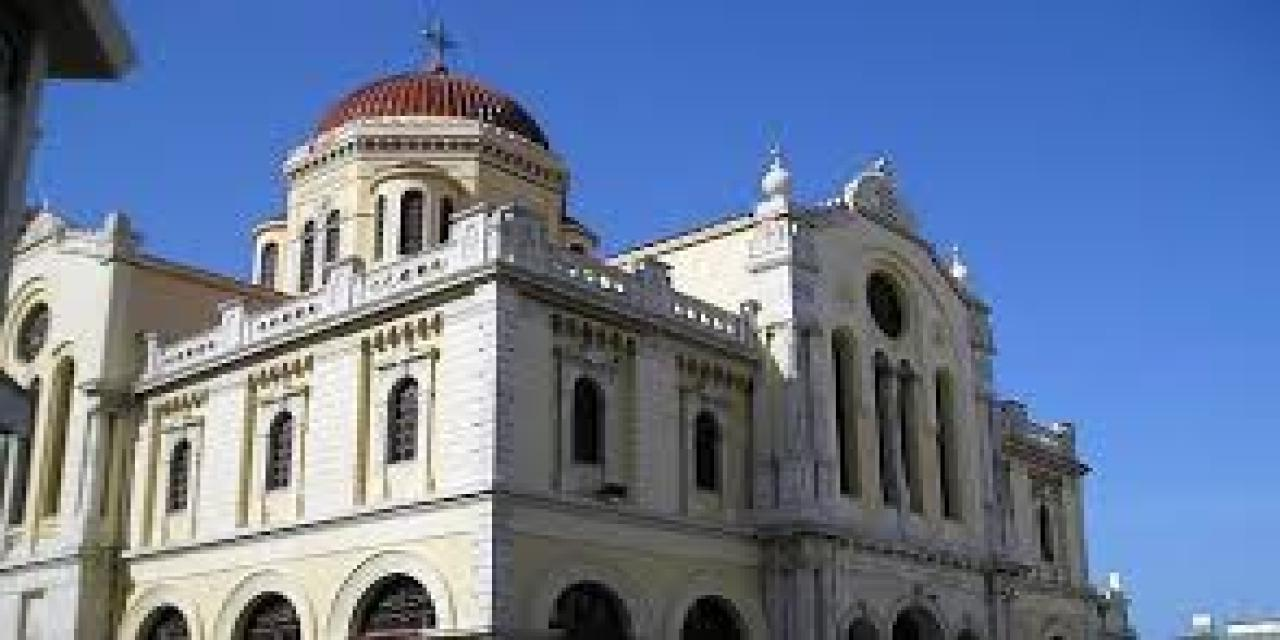Agios Minas: (1, 14, 1122, 640)
